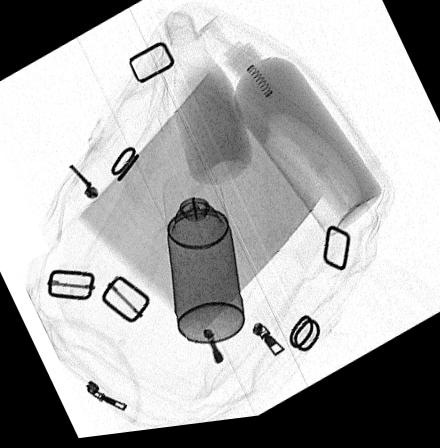Sprayer: (162, 176, 245, 352)
